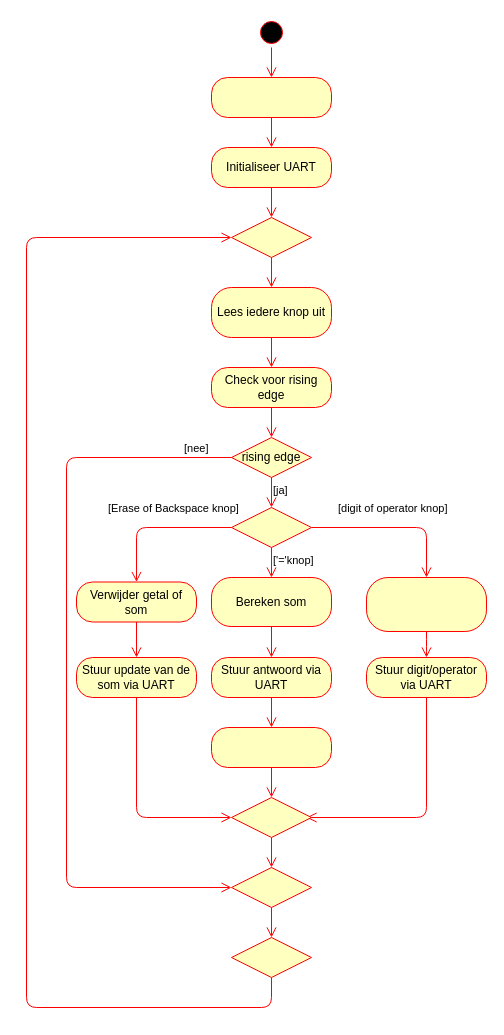
The diagram is 504 pixels wide and 1035 high, and some of its shapes have lost their labels. Each missing label, with the box of its shape:
Initialiseer knoppen: (210, 76, 332, 118)
Loop: (230, 936, 312, 978)
Sla digit/operator op in geheugen: (366, 576, 486, 632)
Verwijder som uit geheugen: (210, 726, 332, 768)
